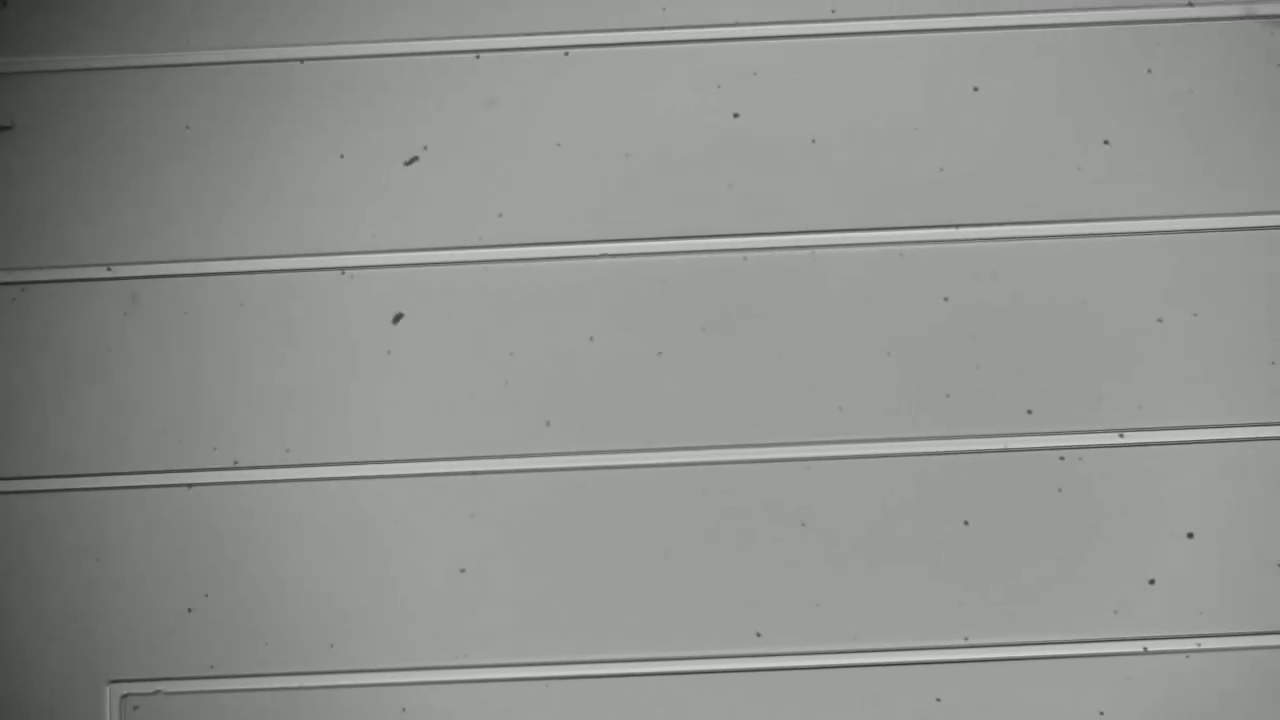edge_bite: (144, 669, 173, 703)
